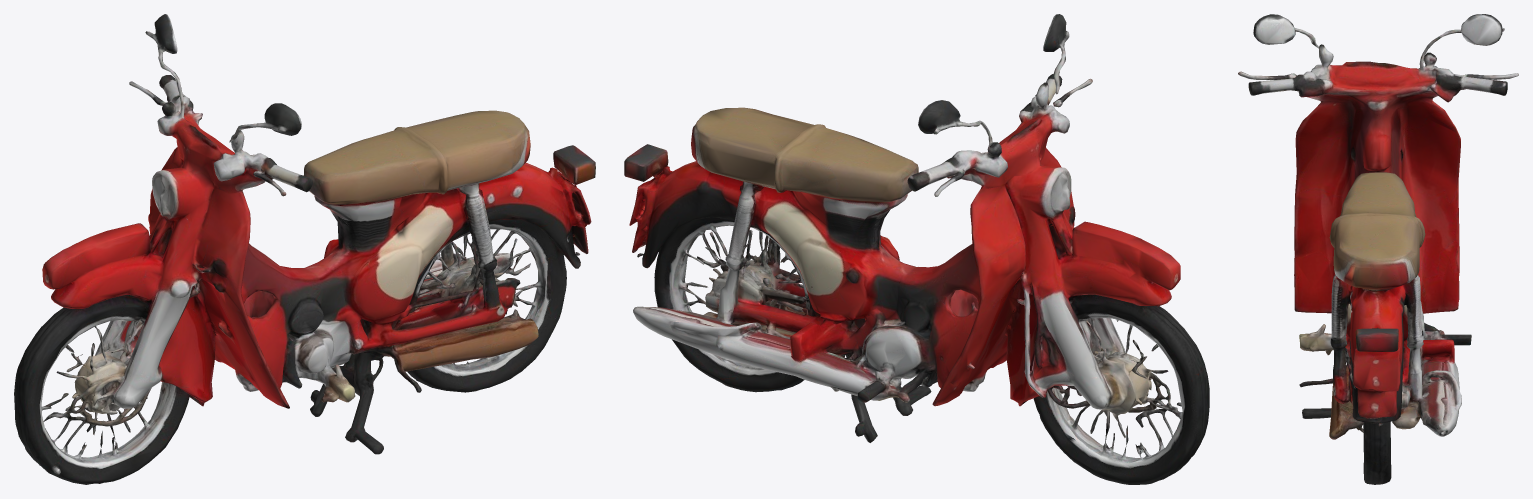
File: moto.glb
3 views of the same model, side by side, from view 1: azimuth 30°, elevation 25°; view 2: azimuth 150°, elevation 25°; view 3: azimuth 270°, elevation 25° (orthographic). The views are drawn at different scales.
Size of the model in its own units: 2 by 1.34 by 0.9479.
Materials: 1 (1 with a texture image).
